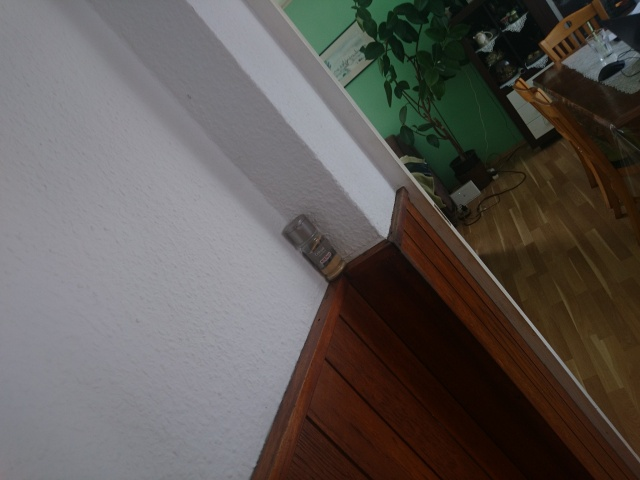Kotanyi Garlic Granules 70g: (279, 211, 350, 285)
